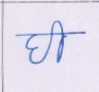i_matra: (52, 20, 66, 63)
